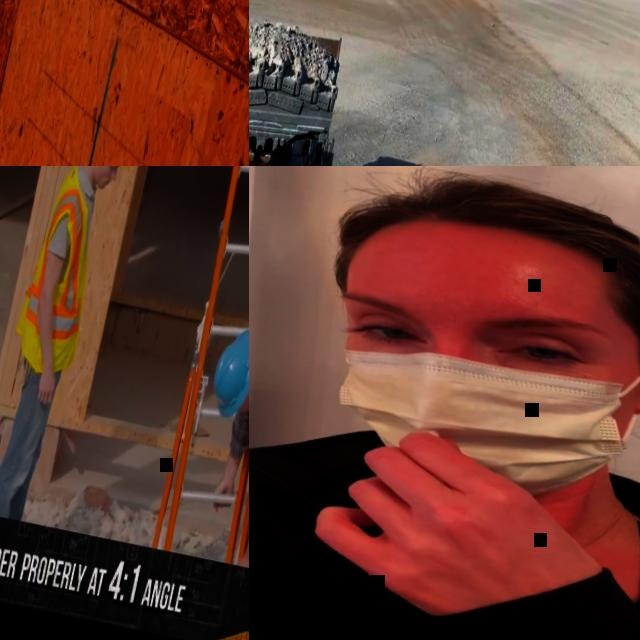Hardhat: (205, 324, 249, 422)
Mask: (312, 281, 640, 517)
NO-Hardhat: (341, 166, 640, 313)
NO-Mask: (95, 167, 113, 190), (242, 395, 249, 416)
NO-Safety Vest: (249, 432, 640, 640)
Person: (249, 166, 640, 640), (0, 166, 135, 524), (178, 306, 249, 580)
Safety Vest: (8, 166, 113, 377)
machinery: (249, 4, 360, 166)
